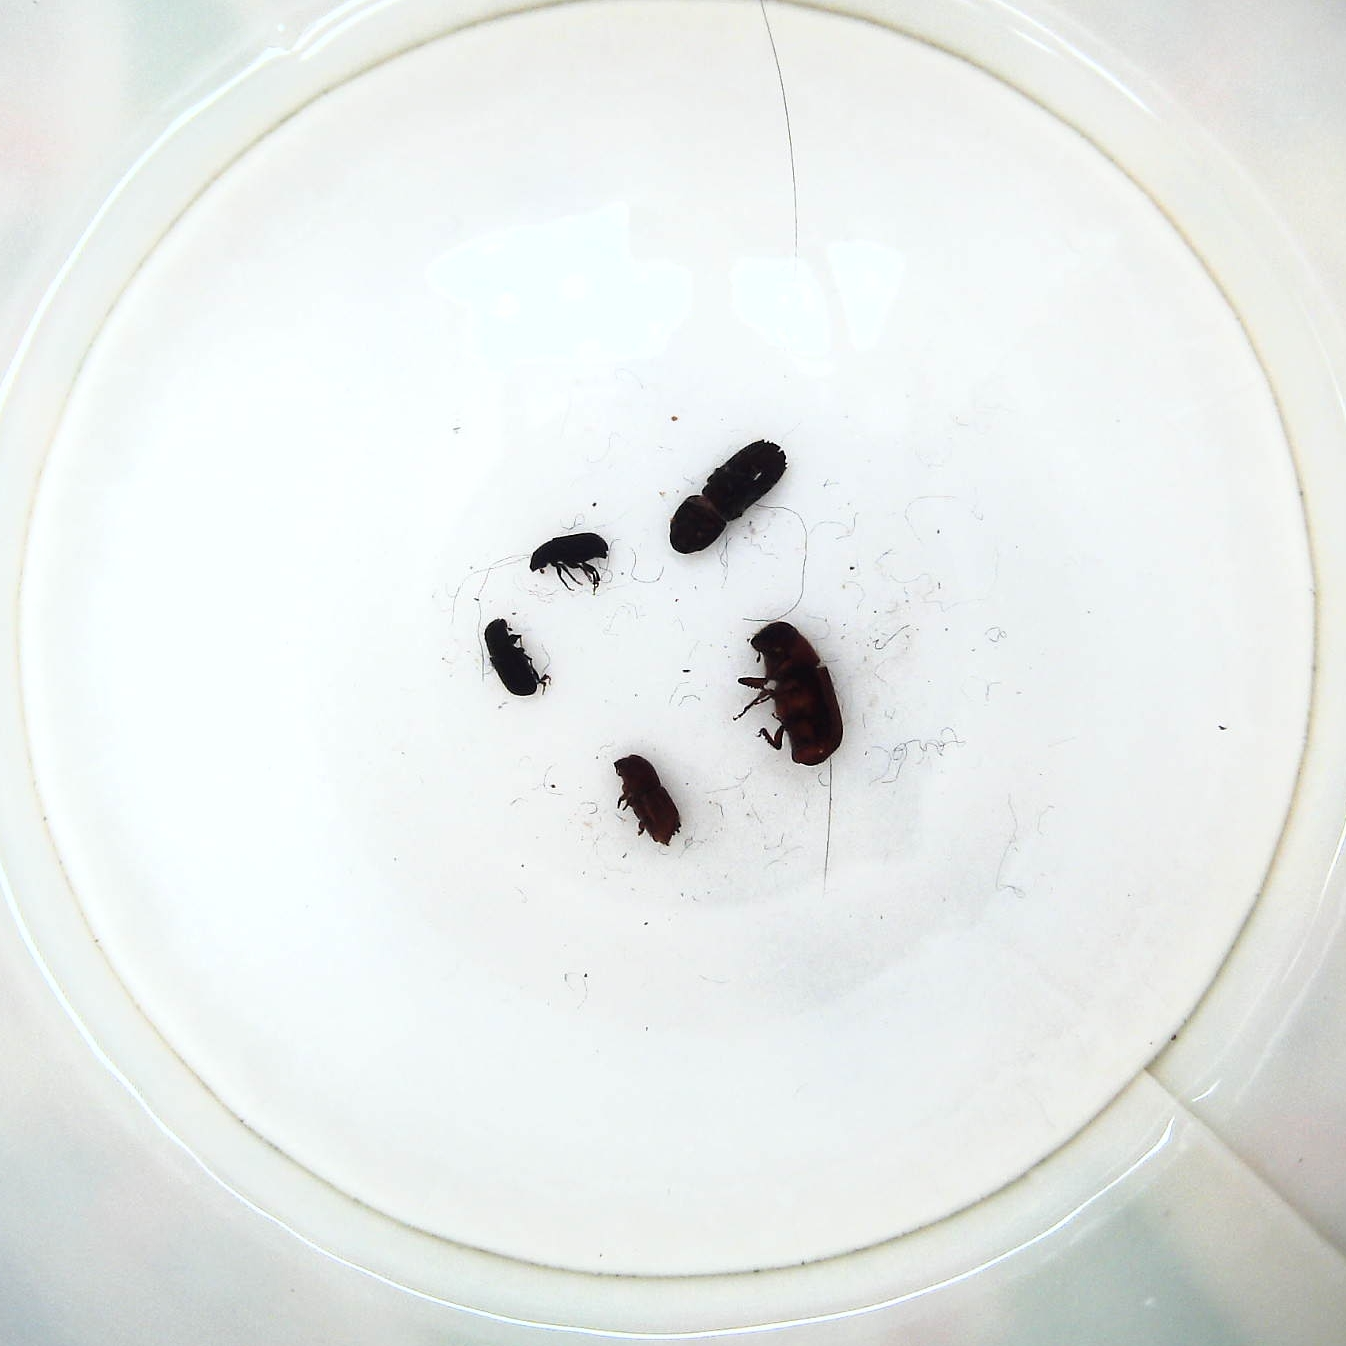Boerner: (664, 439, 793, 556)
Leconte: (730, 618, 852, 768)
armandi: (478, 618, 552, 703)
coleoptera: (528, 529, 615, 593)
linnaeus: (610, 751, 687, 850)
